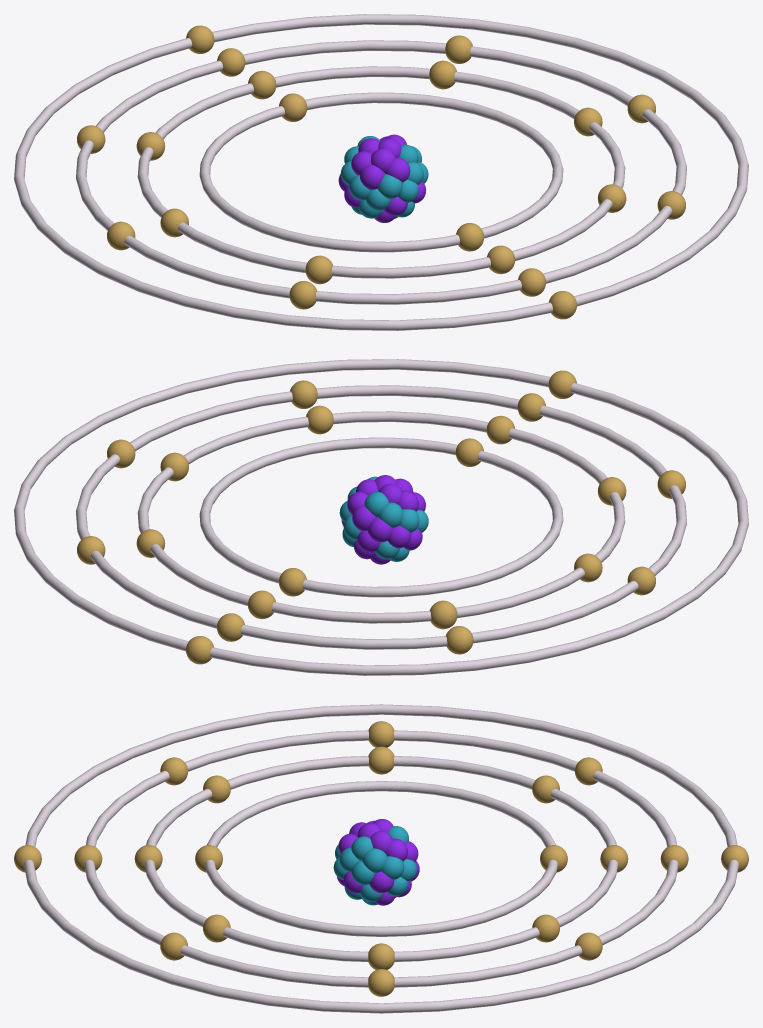
Rendered from calcio.glb.
3 renders of one model, top to bottom at view 1: azimuth 30°, elevation 25°; view 2: azimuth 150°, elevation 25°; view 3: azimuth 270°, elevation 25°, orthographic. The views are drawn at different scales.
Parts seen in each view (by area): view 1: Orbita_4, Orbita_3, Orbita_2, Orbita_1, Nucleo_Completo, Eletron_C2_8, Eletron_C3_8, Eletron_C2_4, Eletron_C3_4, Eletron_C2_1, Eletron_1, Eletron_C4_1 (+13 smaller); view 2: Orbita_4, Orbita_3, Orbita_2, Orbita_1, Nucleo_Completo, Eletron_C2_6, Eletron_C3_6, Eletron_C2_2, Eletron_C3_2, Eletron_C2_5, Eletron_2, Eletron_C4_2 (+13 smaller); view 3: Orbita_4, Orbita_3, Orbita_2, Orbita_1, Nucleo_Completo, Eletron_C3_3, Eletron_C2_7, Eletron_C2_3, Eletron_C3_7, Eletron_C2_2, Eletron_C2_4, Eletron_C3_2 (+13 smaller).
Part boxes in pixels (x1,y1,x2,y2): Orbita_4: (14, 14, 748, 330); Orbita_3: (76, 40, 686, 304); Orbita_2: (137, 66, 625, 278); Orbita_1: (199, 92, 563, 252); Nucleo_Completo: (338, 134, 428, 222); Eletron_C2_8: (305, 255, 332, 284); Eletron_C3_8: (289, 281, 316, 309); Eletron_C2_4: (429, 60, 456, 89); Eletron_C3_4: (445, 35, 472, 63); Eletron_C2_1: (487, 245, 514, 274); Eletron_1: (456, 223, 484, 251); Eletron_C4_1: (548, 291, 576, 319); Orbita_4: (14, 359, 748, 675); Orbita_3: (76, 385, 686, 649); Orbita_2: (137, 411, 625, 623); Orbita_1: (199, 437, 563, 597); Nucleo_Completo: (339, 475, 428, 564); Eletron_C2_6: (430, 600, 457, 629); Eletron_C3_6: (446, 626, 473, 654); Eletron_C2_2: (306, 405, 333, 434); Eletron_C3_2: (290, 380, 317, 408); Eletron_C2_5: (248, 590, 275, 619); Eletron_2: (278, 568, 306, 596); Eletron_C4_2: (186, 636, 214, 664); Orbita_4: (24, 704, 738, 1013); Orbita_3: (84, 730, 678, 987); Orbita_2: (144, 756, 618, 961); Orbita_1: (205, 781, 557, 936); Nucleo_Completo: (333, 819, 419, 905); Eletron_C3_3: (368, 969, 394, 996); Eletron_C2_7: (368, 746, 394, 774); Eletron_C2_3: (368, 943, 394, 969); Eletron_C3_7: (368, 721, 394, 747); Eletron_C2_2: (203, 914, 230, 942); Eletron_C2_4: (532, 914, 559, 942); Eletron_C3_2: (160, 932, 187, 960).
Size of the model in its own units: 4.16 by 0.5029 by 4.26.
